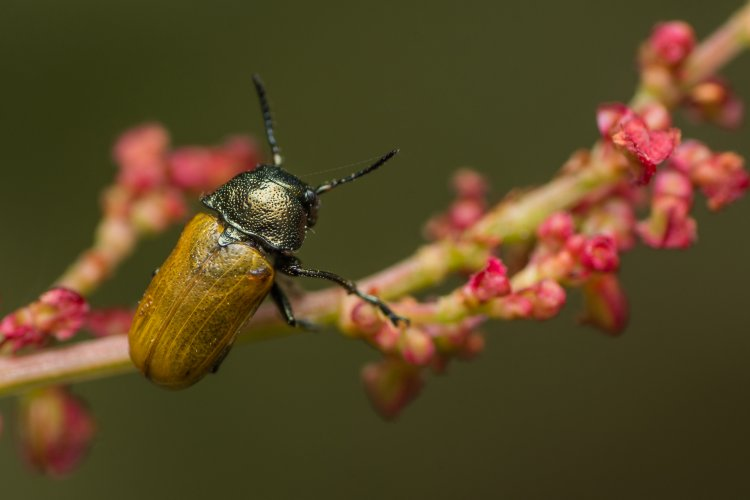Labidostomis_longimana: (115, 69, 428, 390)
